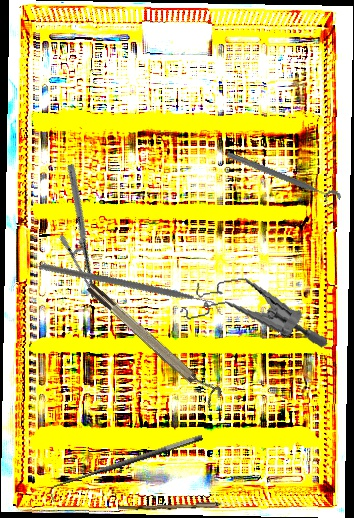Chopper: (38, 212, 223, 369)
Fixation Ring: (84, 275, 225, 409), (222, 148, 343, 212)
Hook Surgical: (46, 432, 208, 503)
Needle Holder: (16, 162, 149, 302)
Speculum: (174, 264, 329, 368)
Surgical Spoon: (117, 499, 255, 513)
